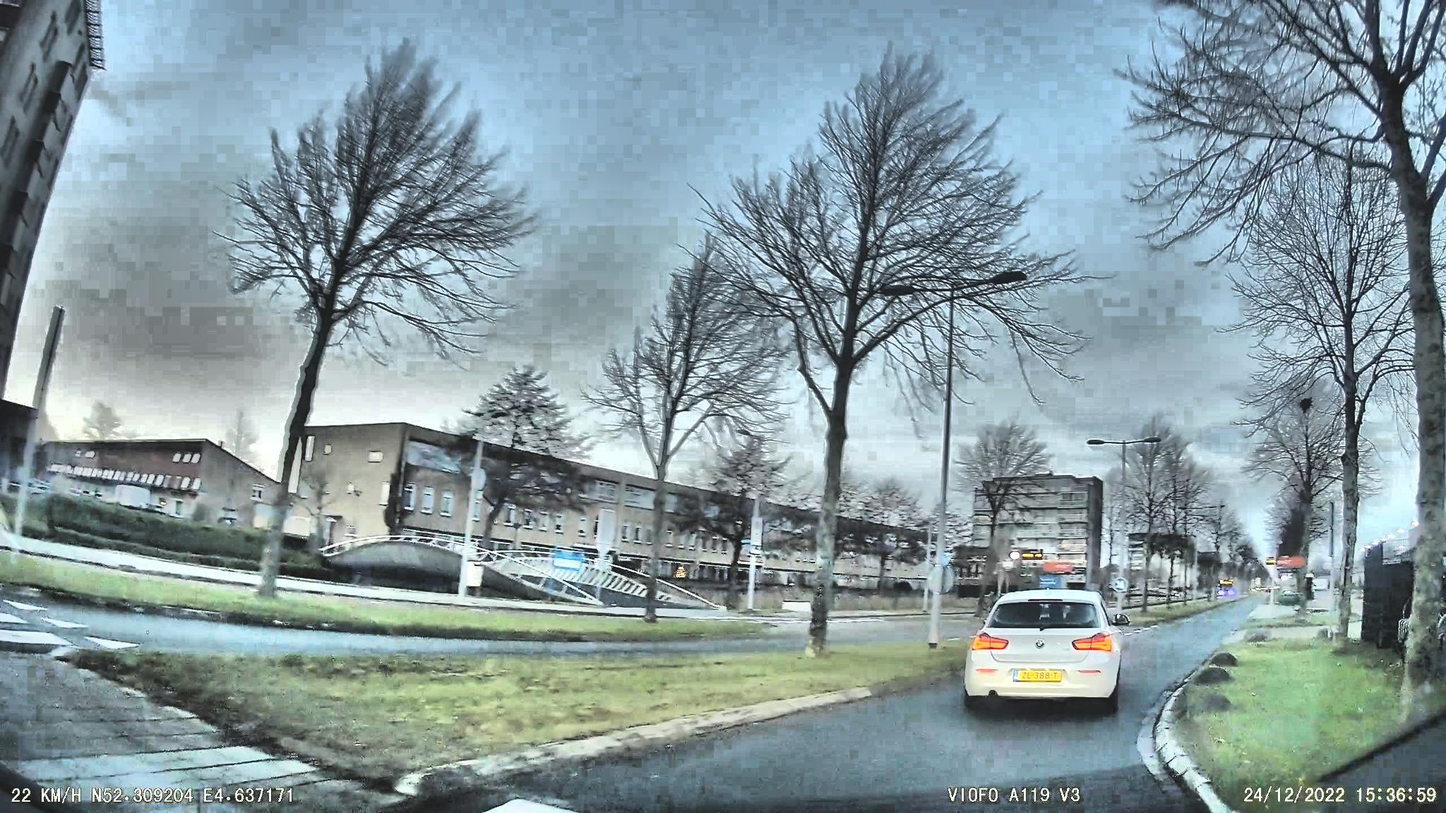Roads: (376, 615, 1242, 813)
